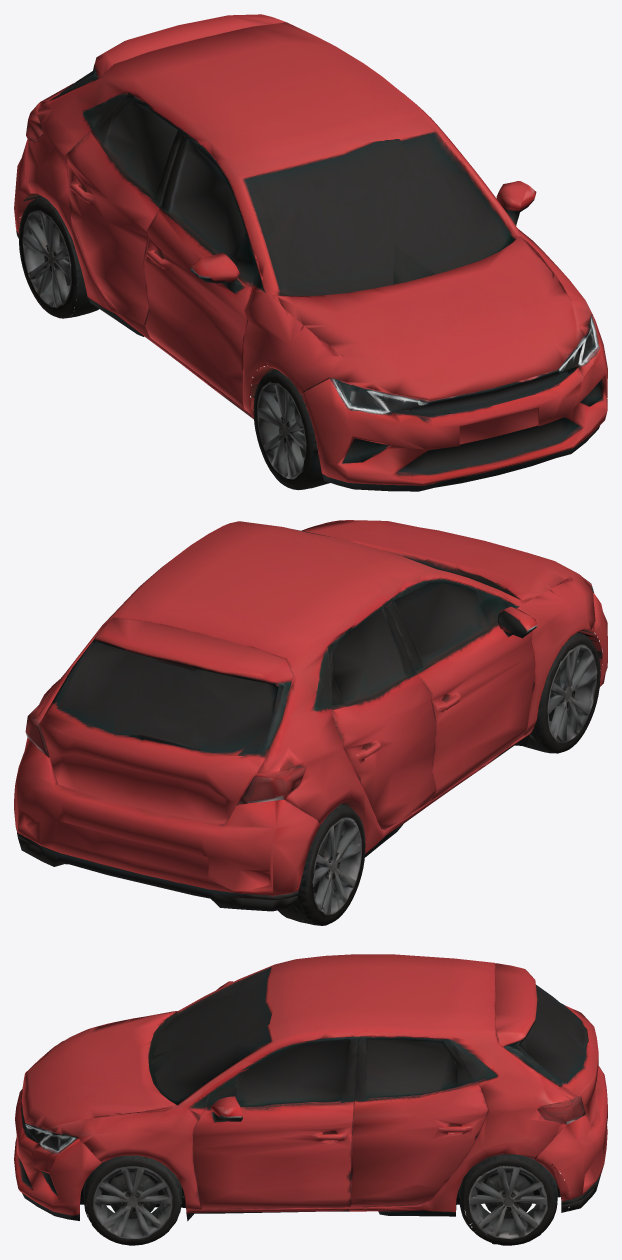
File: version_a.glb
3 renders of one model, top to bottom at view 1: azimuth 30°, elevation 25°; view 2: azimuth 150°, elevation 25°; view 3: azimuth 270°, elevation 25°, orthographic. The views are drawn at different scales.
Visible parts, largest first — view 1: Body, Wheel_FL, Wheel_RL; view 2: Body, Wheel_FL, Wheel_RL; view 3: Body, Wheel_RR, Wheel_FR.
Boxes of the visible parts, left/top/right/bottom form: Body: left=14, top=14, right=607, bottom=491; Wheel_FL: left=250, top=365, right=329, bottom=490; Wheel_RL: left=18, top=197, right=98, bottom=318; Body: left=14, top=520, right=607, bottom=911; Wheel_FL: left=523, top=629, right=602, bottom=753; Wheel_RL: left=278, top=809, right=365, bottom=925; Body: left=14, top=954, right=607, bottom=1244; Wheel_RR: left=464, top=1154, right=569, bottom=1245; Wheel_FR: left=86, top=1158, right=185, bottom=1245.
Size of the model in its own units: 1.39 by 1.01 by 2.65.
Materials: 1 (1 with a texture image).
